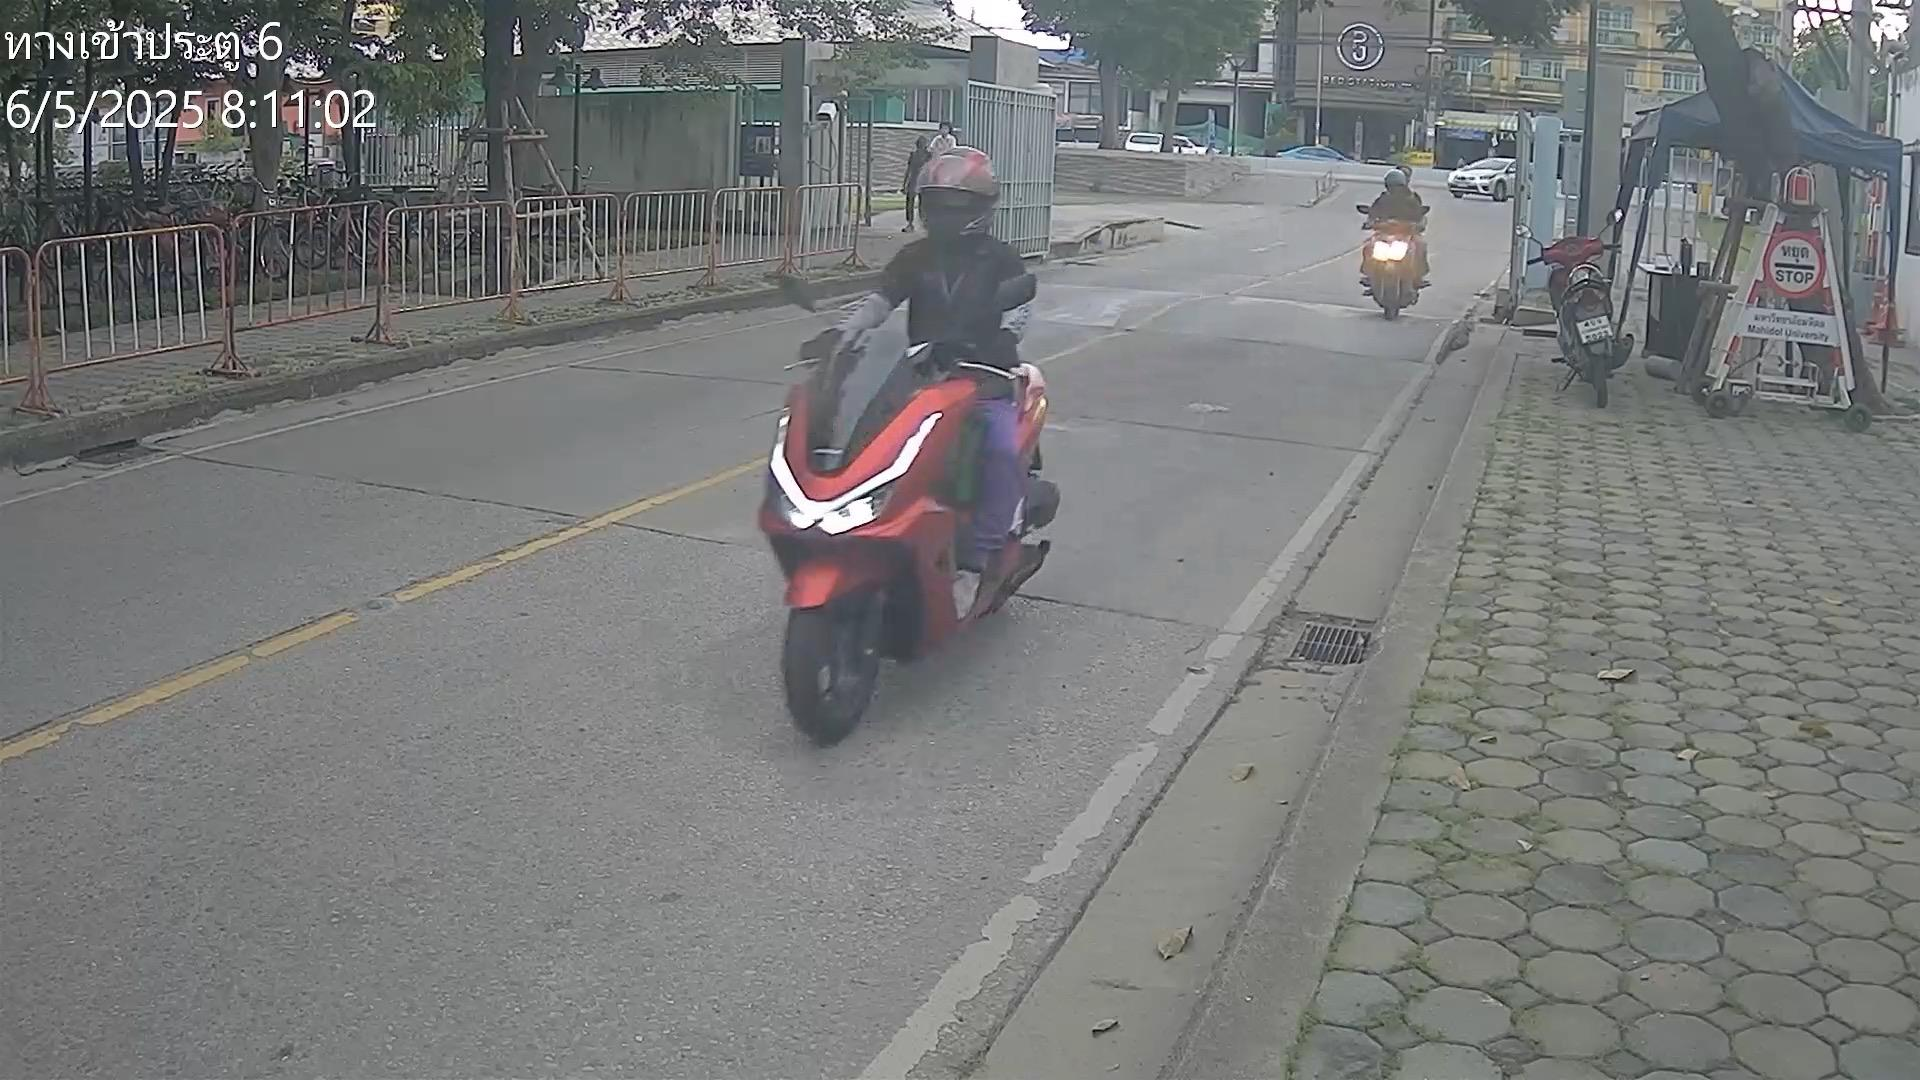With-Helmet: (915, 144, 1002, 247), (1383, 167, 1408, 196)
